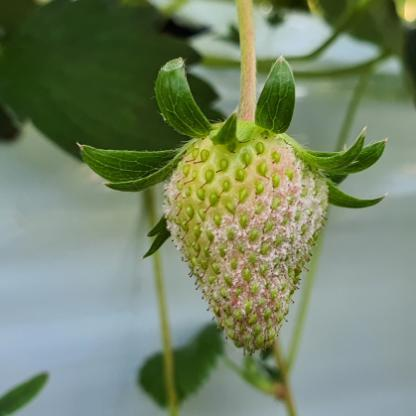Strawberry_Powdery_Mildew_Fruit: (162, 124, 330, 354)
